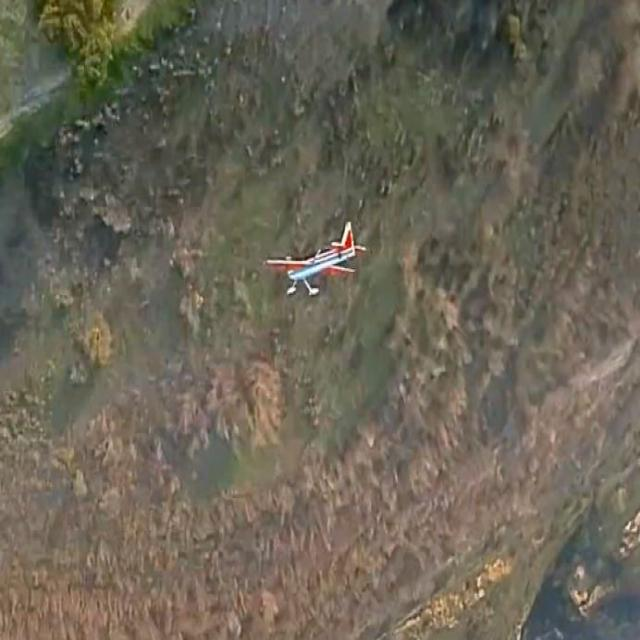iha: (297, 252, 335, 267)
